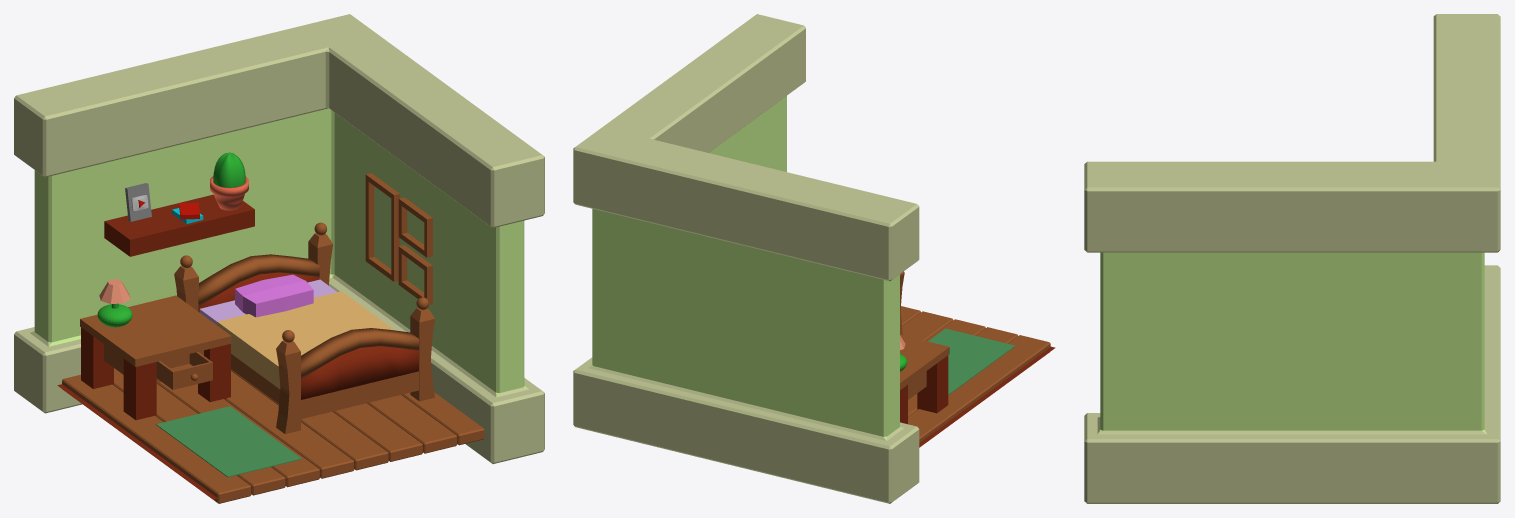
The model's file is Bedroom.glb.
3 renders of one model, left to right at view 1: azimuth 30°, elevation 25°; view 2: azimuth 150°, elevation 25°; view 3: azimuth 270°, elevation 25°, orthographic. The views are drawn at different scales.
Parts seen in each view (by area): view 1: walls -col, floor -col, Plane -col, blanket, foot -col, Plane.001, shelf, picture frames, head -col, frame -col, frame.002, stand1 -col (+12 smaller); view 2: walls -col, floor -col, Plane.001, Plane -col, tablefoot, floorr -col; view 3: walls -col.
Part boxes in pixels (left/top/right/bottom): walls -col: left=14, top=14, right=544, bottom=463; floor -col: left=62, top=368, right=484, bottom=503; Plane -col: left=80, top=295, right=231, bottom=389; blanket: left=217, top=291, right=394, bottom=389; foot -col: left=301, top=328, right=418, bottom=399; Plane.001: left=156, top=406, right=301, bottom=477; shelf: left=104, top=194, right=254, bottom=256; picture frames: left=365, top=173, right=432, bottom=304; head -col: left=198, top=254, right=319, bottom=312; frame -col: left=231, top=354, right=418, bottom=418; frame.002: left=235, top=274, right=313, bottom=317; stand1 -col: left=276, top=330, right=300, bottom=434; walls -col: left=573, top=14, right=919, bottom=503; floor -col: left=901, top=306, right=1050, bottom=446; Plane.001: left=928, top=328, right=1015, bottom=394; Plane -col: left=900, top=335, right=949, bottom=399; tablefoot: left=917, top=355, right=948, bottom=413; floorr -col: left=919, top=346, right=1055, bottom=447; walls -col: left=1084, top=14, right=1500, bottom=503.
Size of what is drawn, in the model's own units: 2.38 by 2 by 2.38.
